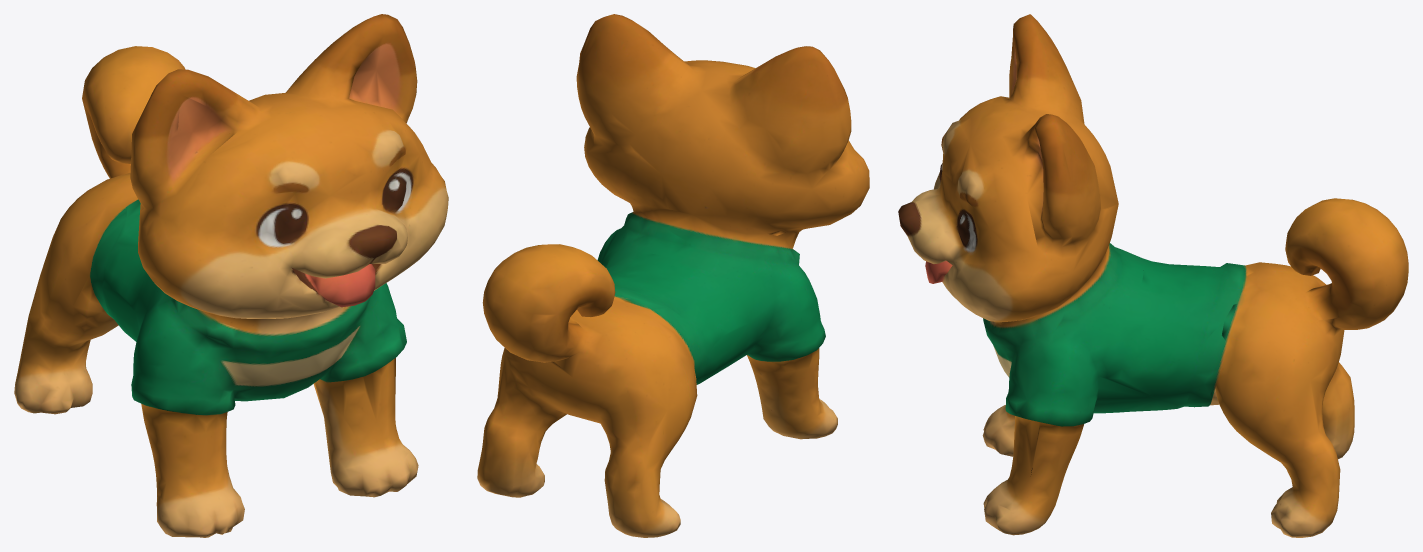
Rendered from dog_jina.glb.
The picture shows the model from 3 angles, left to right: view 1: azimuth 30°, elevation 25°; view 2: azimuth 150°, elevation 25°; view 3: azimuth 270°, elevation 25°; orthographic projection. The views are drawn at different scales.
Visible parts, largest first — view 1: dog_jina; view 2: dog_jina; view 3: dog_jina.
Boxes of the visible parts, x1,y1,x2,y2 form: dog_jina: (14,14,448,537); dog_jina: (477,14,869,537); dog_jina: (898,14,1408,537).
Bounding box in the file's own units: 0.35 × 0.5 × 0.55.
Materials: 1 (1 with a texture image).
